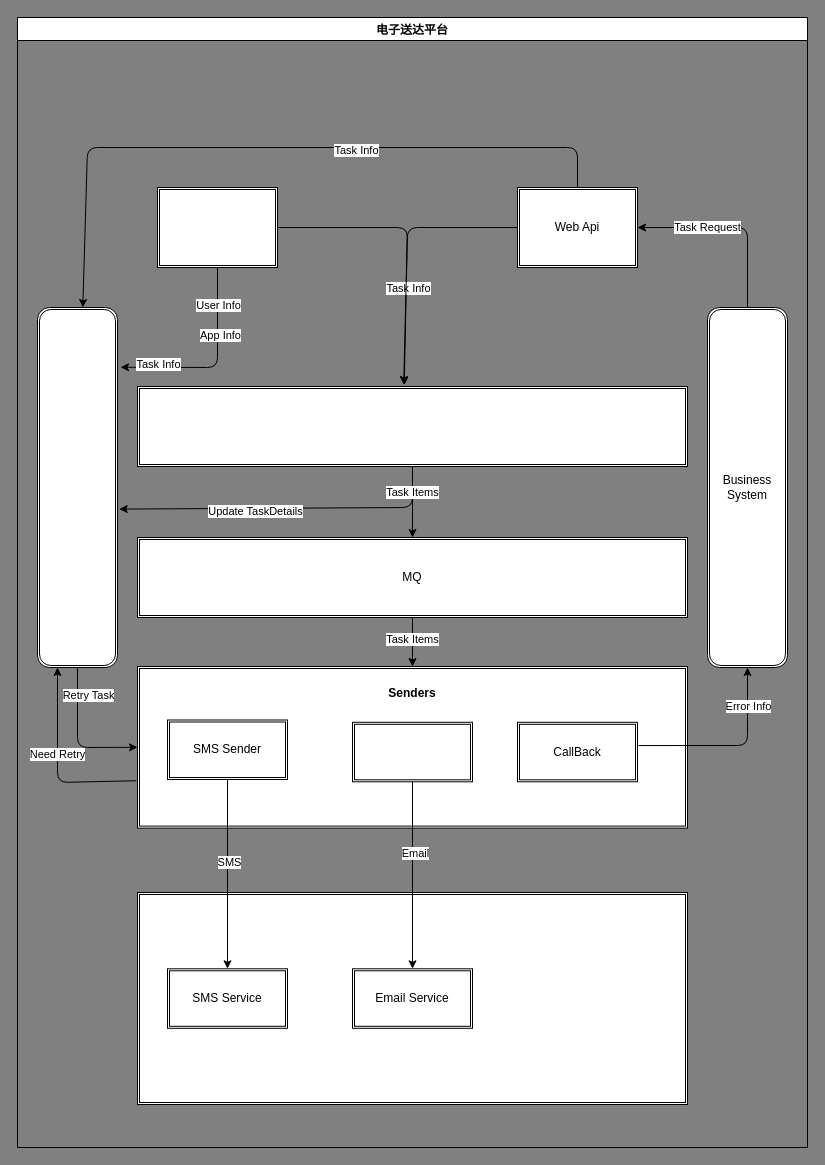
The diagram is 825 pixels wide and 1165 high, and some of its shapes have lost their labels. Each missing label, with the centre of its shape:
DB: (x=77, y=487)
Email Sender: (x=412, y=751)
Task Resolver: (x=412, y=426)
Web Console: (x=217, y=227)
